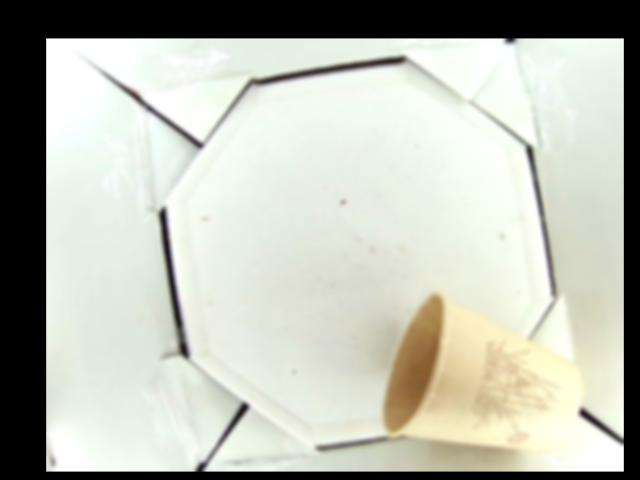Cup: (381, 292, 582, 452)
